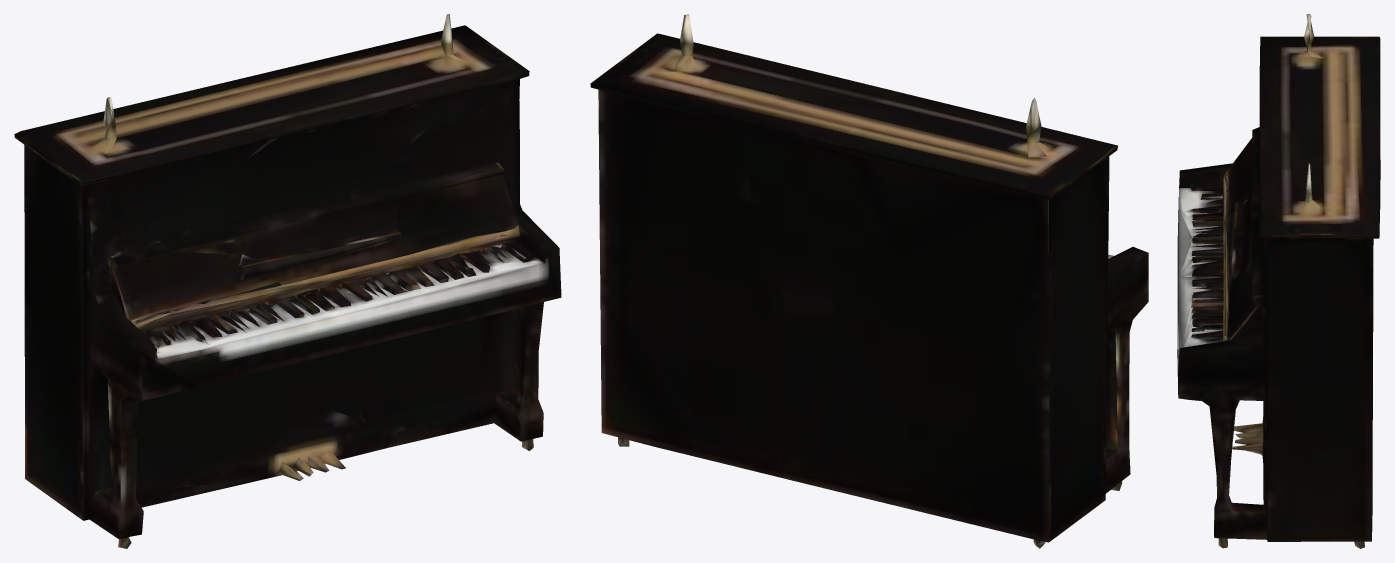
File: piano.movil.glb
3 views of the same model, side by side, from view 1: azimuth 30°, elevation 25°; view 2: azimuth 150°, elevation 25°; view 3: azimuth 270°, elevation 25° (orthographic). The views are drawn at different scales.
Visible parts, largest first — view 1: geometry_0; view 2: geometry_0; view 3: geometry_0.
Boxes of the visible parts, bbox=[...] form: geometry_0: bbox=[14, 14, 561, 548]; geometry_0: bbox=[590, 14, 1148, 548]; geometry_0: bbox=[1177, 14, 1380, 548].
Bounding box in the file's own units: 1.5 × 1.3 × 0.6469.
Materials: 1 (1 with a texture image).
